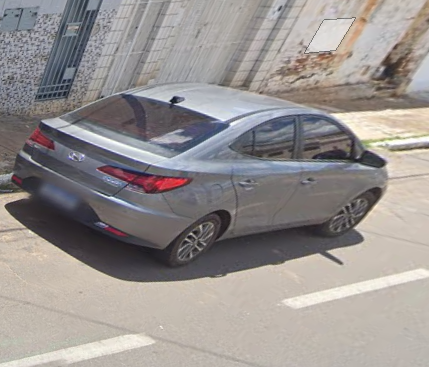car: (8, 75, 394, 266)
